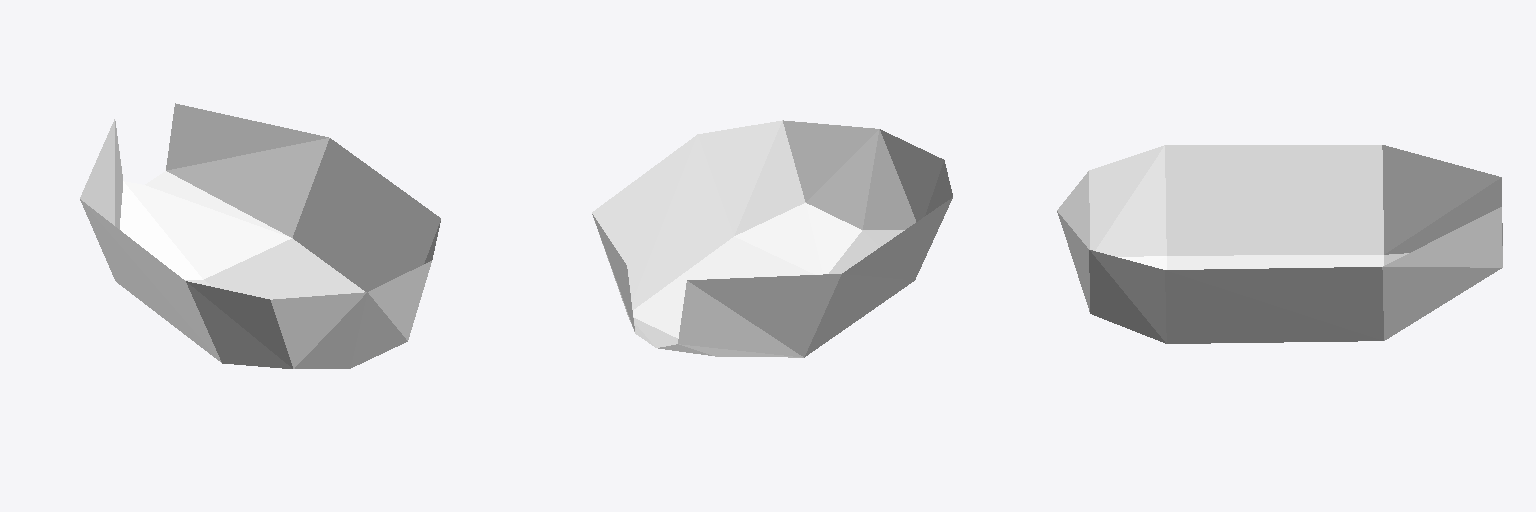
The model's file is city_lamppost4.obj.
3 views of the same model, side by side, from view 1: azimuth 30°, elevation 25°; view 2: azimuth 150°, elevation 25°; view 3: azimuth 270°, elevation 25° (orthographic).
Visible parts, largest first — view 1: polySurface836.002; view 2: polySurface836.002; view 3: polySurface836.002.
Boxes of the visible parts, <box> form: polySurface836.002: <box>80,103,440,368</box>; polySurface836.002: <box>592,120,952,357</box>; polySurface836.002: <box>1057,145,1502,343</box>.
Bounding box in the file's own units: 0.4232 × 0.2028 × 0.6393.